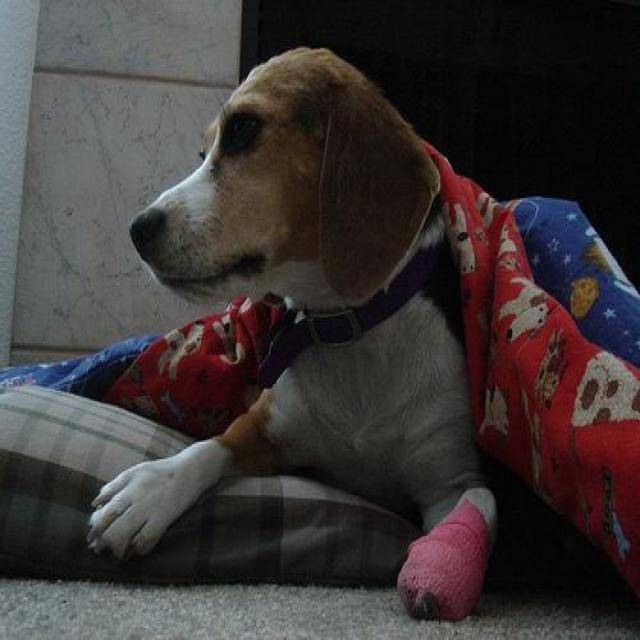beagle: (83, 41, 494, 621)
